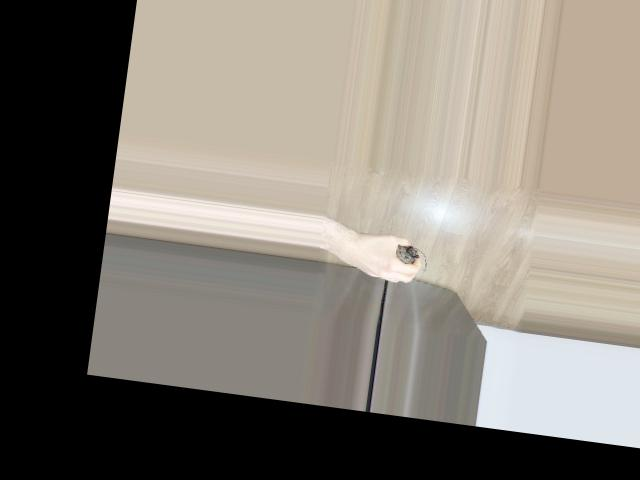beet: (394, 244, 430, 271)
